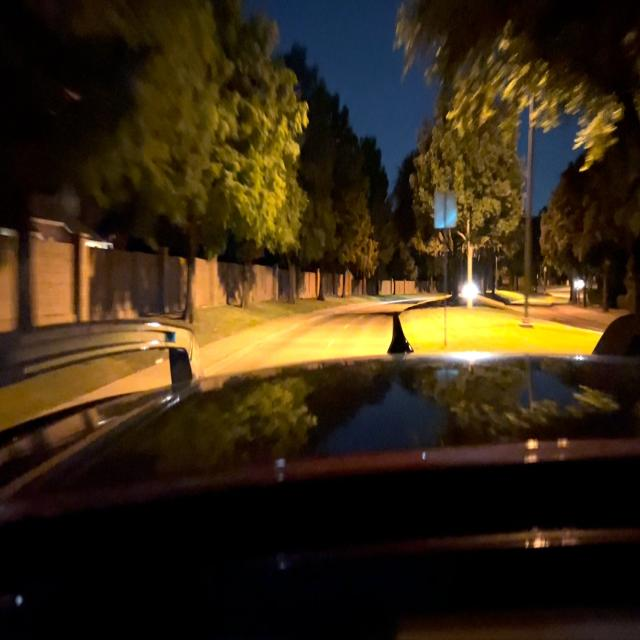back-of-sign: (434, 190, 457, 225)
